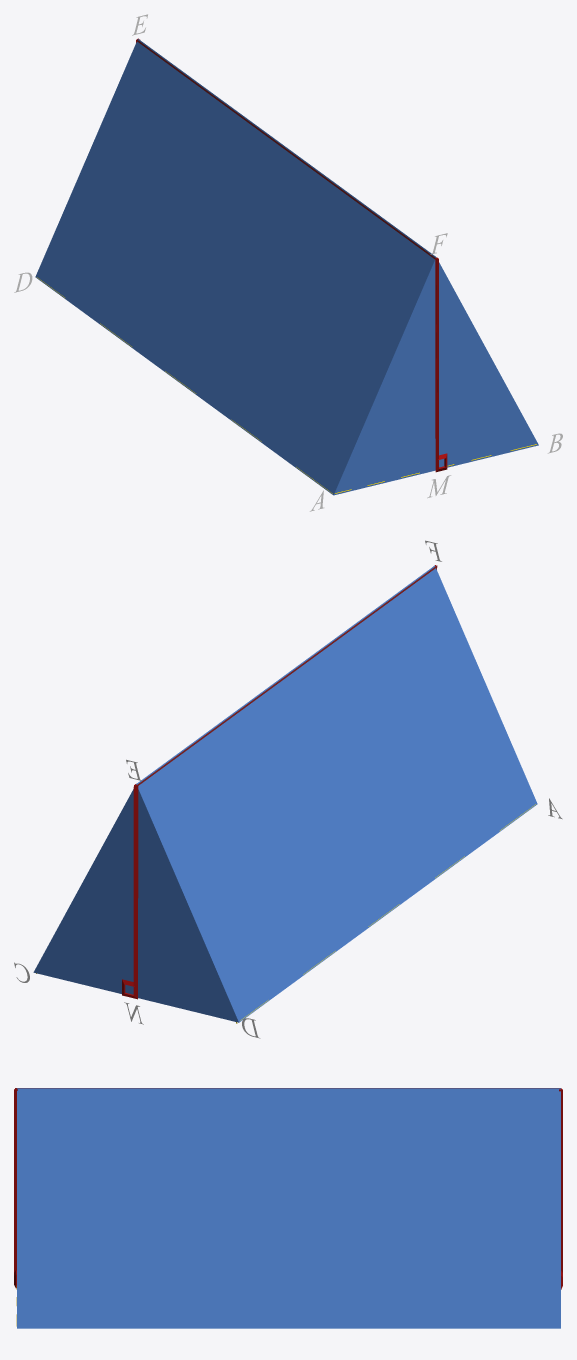
3 renders of one model, top to bottom at view 1: azimuth 30°, elevation 25°; view 2: azimuth 150°, elevation 25°; view 3: azimuth 270°, elevation 25°, orthographic. The views are drawn at different scales.
Parts seen in each view (by area): view 1: Prism001, Line011, Plane001; view 2: Prism001, Line009, Plane001; view 3: Prism001, Line011, Plane001, Line009.
Boxes of the visible parts, x1,y1,x2,y2 form: Prism001: (35, 39, 538, 495); Line011: (435, 257, 447, 472); Plane001: (137, 39, 437, 392); Prism001: (33, 565, 537, 1022); Line009: (122, 784, 138, 999); Plane001: (137, 565, 437, 785); Prism001: (17, 1088, 560, 1328); Line011: (14, 1088, 17, 1288); Plane001: (15, 1088, 561, 1088); Line009: (559, 1088, 562, 1289).
Size of the model in its own units: 22.61 by 22.23 by 46.56.
